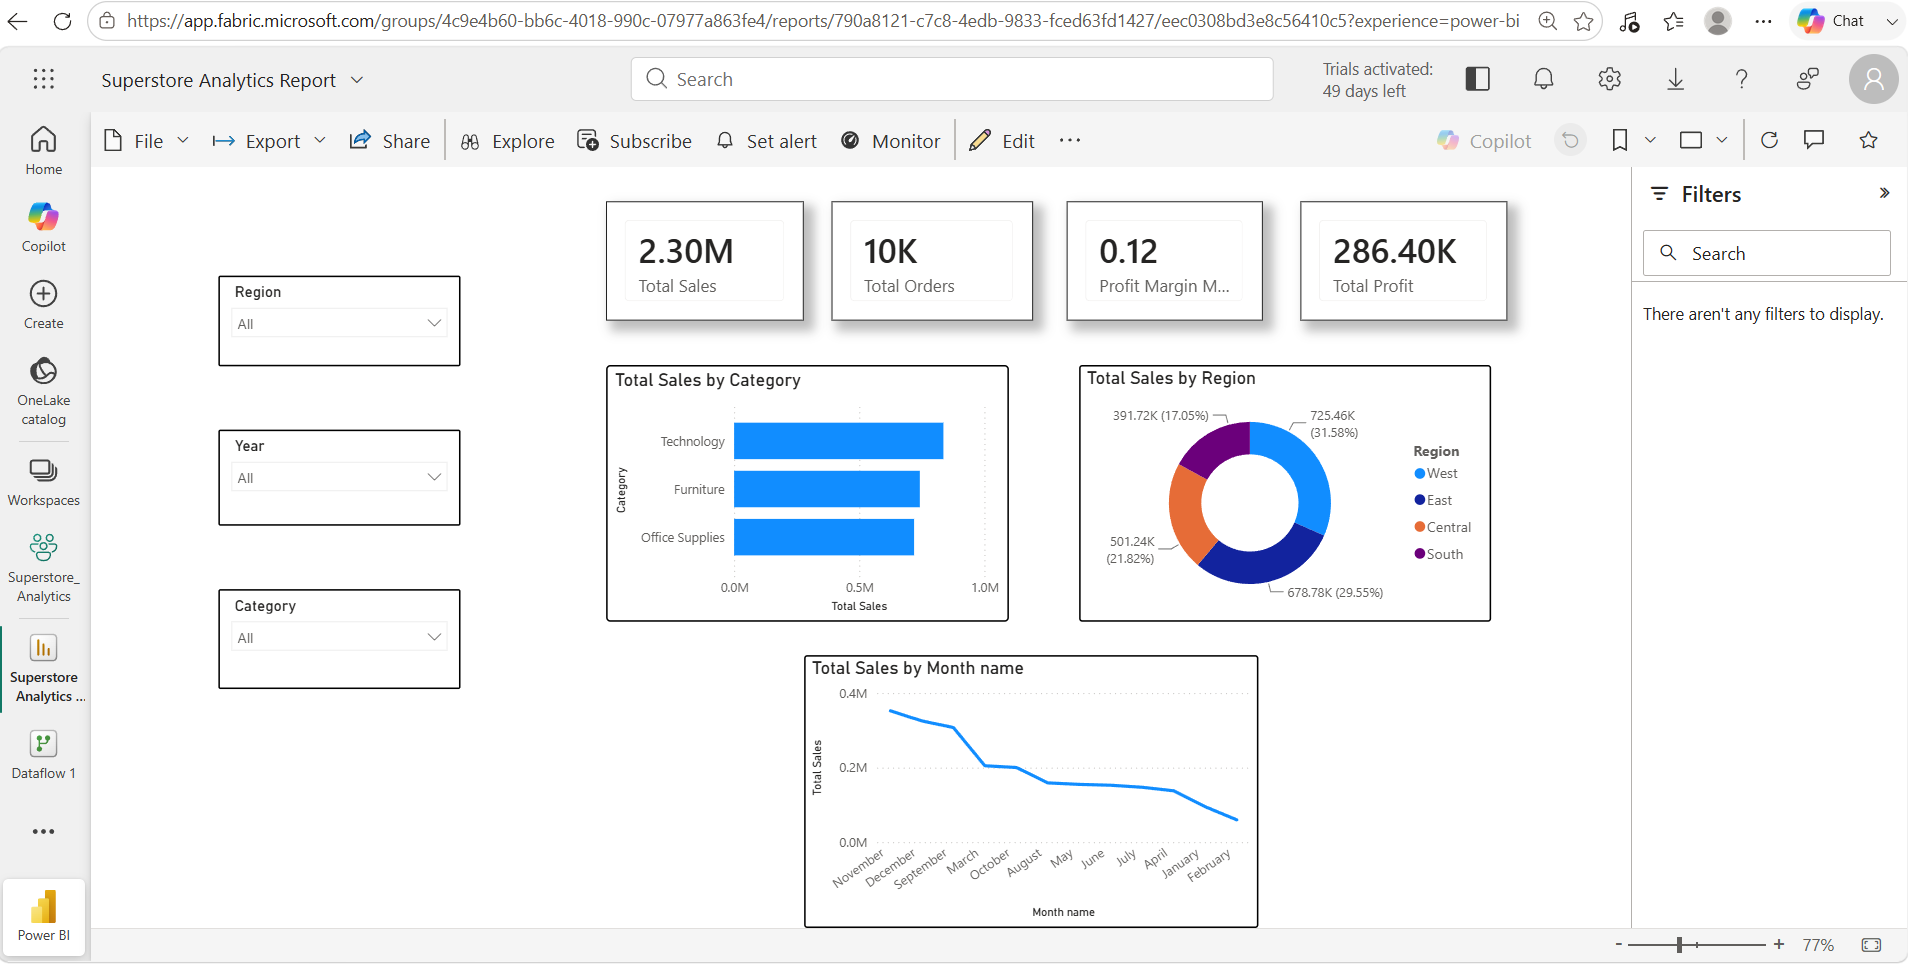

Layout of this report page (visuals, bound fields, positions):
{"tool":"powerbi","page":{"name":"Page 1","canvas":[1280,720],"ordinal":0},"visuals":[{"type":"shape","box":[0,39.2,263.6,681.4],"z":0},{"type":"cardVisual","title":"Total Sales","fields":{"Data":["Sample-Superstore.Total Sales"]},"box":[300.1,39.2,237.9,162.2],"z":1000},{"type":"cardVisual","title":"Total Profit","fields":{"Data":["Sample-Superstore.Total Profit"]},"box":[538.1,39.2,237.9,162.2],"z":2000},{"type":"clusteredBarChart","title":"Sales by Category","fields":{"Category":["Sample-Superstore.Category"],"Y":["Sum(Sample-Superstore.Sales)"]},"box":[274.3,201.4,325.7,245.7],"z":3000},{"type":"lineChart","title":" Monthly Sales","fields":{"Category":["Sample-Superstore.Month Name"],"Y":["Sum(Sample-Superstore.Sales)"]},"box":[615.1,201.4,332.6,246.1],"z":4000},{"type":"clusteredColumnChart","title":"Profit by Region","fields":{"Category":["Sample-Superstore.Region"],"Y":["Sum(Sample-Superstore.Profit)"]},"box":[965.7,201.4,304.3,245.7],"z":5000},{"type":"map","title":"Regional sales","fields":{"Series":["Sample-Superstore.Region"],"Size":["Sum(Sample-Superstore.Sales)"],"Category":["Sample-Superstore.State"]},"box":[274.3,468.6,325.7,237.1],"z":6000},{"type":"cardVisual","fields":{"Data":["Sample-Superstore.Profit Margin"]},"box":[776,39.2,227.1,162.2],"z":7000},{"type":"cardVisual","fields":{"Data":["Sample-Superstore.Total Orders"]},"box":[1007.2,39.2,220.4,162.2],"z":8000},{"type":"pieChart","title":"Sales by Region","fields":{"Y":["Sum(Sample-Superstore.Sales)"],"Category":["Sample-Superstore.Region"]},"box":[965.7,468.6,304.3,237.1],"z":9000},{"type":"tableEx","fields":{"Values":["Sample-Superstore.Customer Name","Sample-Superstore.Total Profit","Sample-Superstore.Total Sales"]},"box":[615.1,467.8,332.6,236.6],"z":10000},{"type":"textbox","title":"SALES ANALYTICS DASHBOARD","box":[0,0,1280,51.4],"z":11000},{"type":"slicer","fields":{"Values":["Sample-Superstore.Region"]},"box":[23,97.3,221.7,82.5],"z":12000},{"type":"slicer","fields":{"Values":["Sample-Superstore.Year"]},"box":[20.3,213.6,225.8,83.8],"z":13000},{"type":"slicer","fields":{"Values":["Sample-Superstore.Category"]},"box":[18.9,333.9,227.1,91.9],"z":14000},{"type":"slicer","fields":{"Values":["Sample-Superstore.Sub-Category"]},"box":[18.9,467.8,227.1,87.9],"z":15000},{"type":"slicer","fields":{"Values":["Sample-Superstore.Segment"]},"box":[18.9,586.7,225.8,87.9],"z":16000}]}

Visuals, with their boxes on the page's 1280x720 design canvas (x1, y1, x2, y2). These are canvas units, not pixel positions in the 1911x966 screenshot, which may show the page scaled, cropped or inside an application window:
shape: Rect(0, 39, 264, 721)
"Total Sales" cardVisual: Rect(300, 39, 538, 201)
"Total Profit" cardVisual: Rect(538, 39, 776, 201)
"Sales by Category" clusteredBarChart: Rect(274, 201, 600, 447)
" Monthly Sales" lineChart: Rect(615, 201, 948, 448)
"Profit by Region" clusteredColumnChart: Rect(966, 201, 1270, 447)
"Regional sales" map: Rect(274, 469, 600, 706)
cardVisual - Sample-Superstore.Profit Margin: Rect(776, 39, 1003, 201)
cardVisual - Sample-Superstore.Total Orders: Rect(1007, 39, 1228, 201)
"Sales by Region" pieChart: Rect(966, 469, 1270, 706)
tableEx - Sample-Superstore.Customer Name x Sample-Superstore.Total Profit: Rect(615, 468, 948, 704)
"SALES ANALYTICS DASHBOARD" textbox: Rect(0, 0, 1280, 51)
slicer - Sample-Superstore.Region: Rect(23, 97, 245, 180)
slicer - Sample-Superstore.Year: Rect(20, 214, 246, 297)
slicer - Sample-Superstore.Category: Rect(19, 334, 246, 426)
slicer - Sample-Superstore.Sub-Category: Rect(19, 468, 246, 556)
slicer - Sample-Superstore.Segment: Rect(19, 587, 245, 675)
